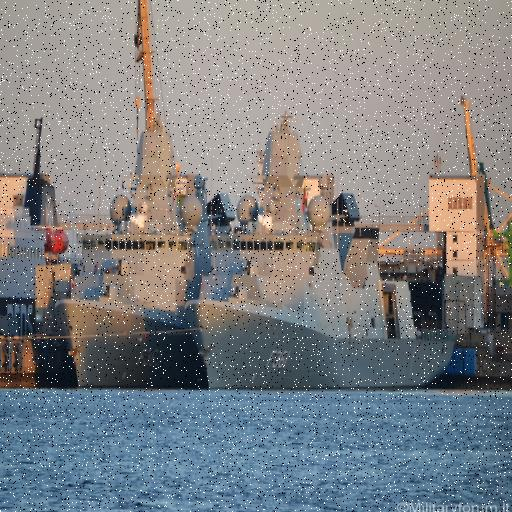Fragata: (188, 104, 457, 393), (54, 92, 195, 394)
